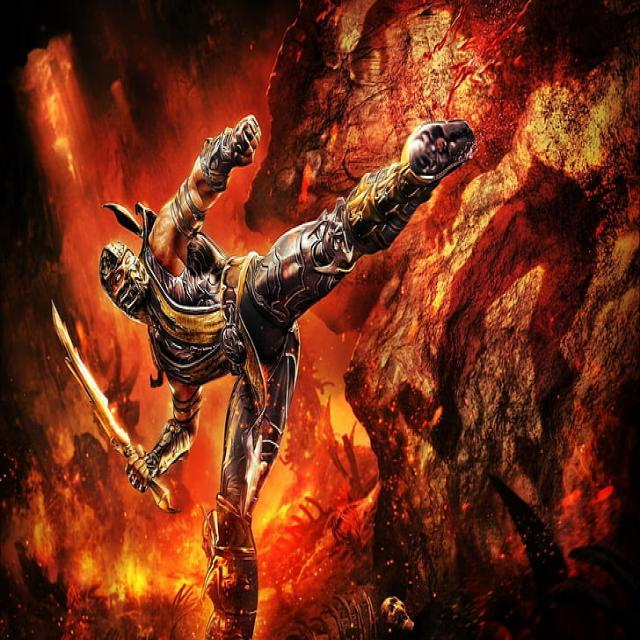sword: (51, 299, 178, 519)
